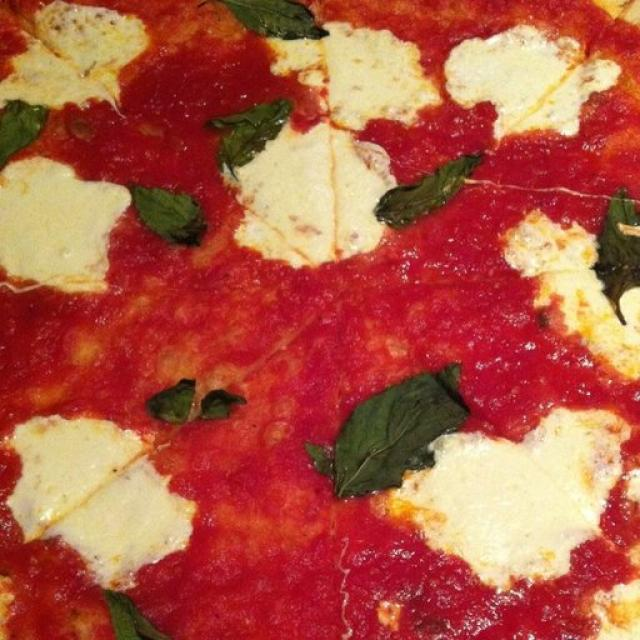Basil: (313, 370, 473, 508), (361, 149, 492, 238), (123, 167, 193, 247), (210, 103, 297, 164), (216, 0, 329, 45), (596, 193, 640, 302), (140, 387, 236, 426), (0, 98, 44, 166), (106, 591, 163, 640)
Cheese: (4, 394, 210, 594), (404, 412, 630, 580), (486, 204, 640, 382), (199, 123, 390, 252), (418, 25, 612, 144), (0, 145, 133, 298), (246, 26, 443, 127), (0, 0, 138, 120)
Pizza: (0, 0, 640, 640)
